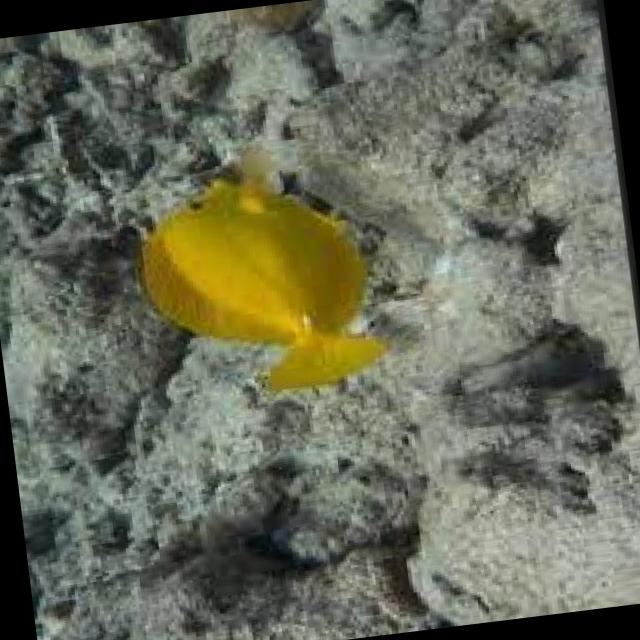YellowTang: (119, 148, 389, 422)
